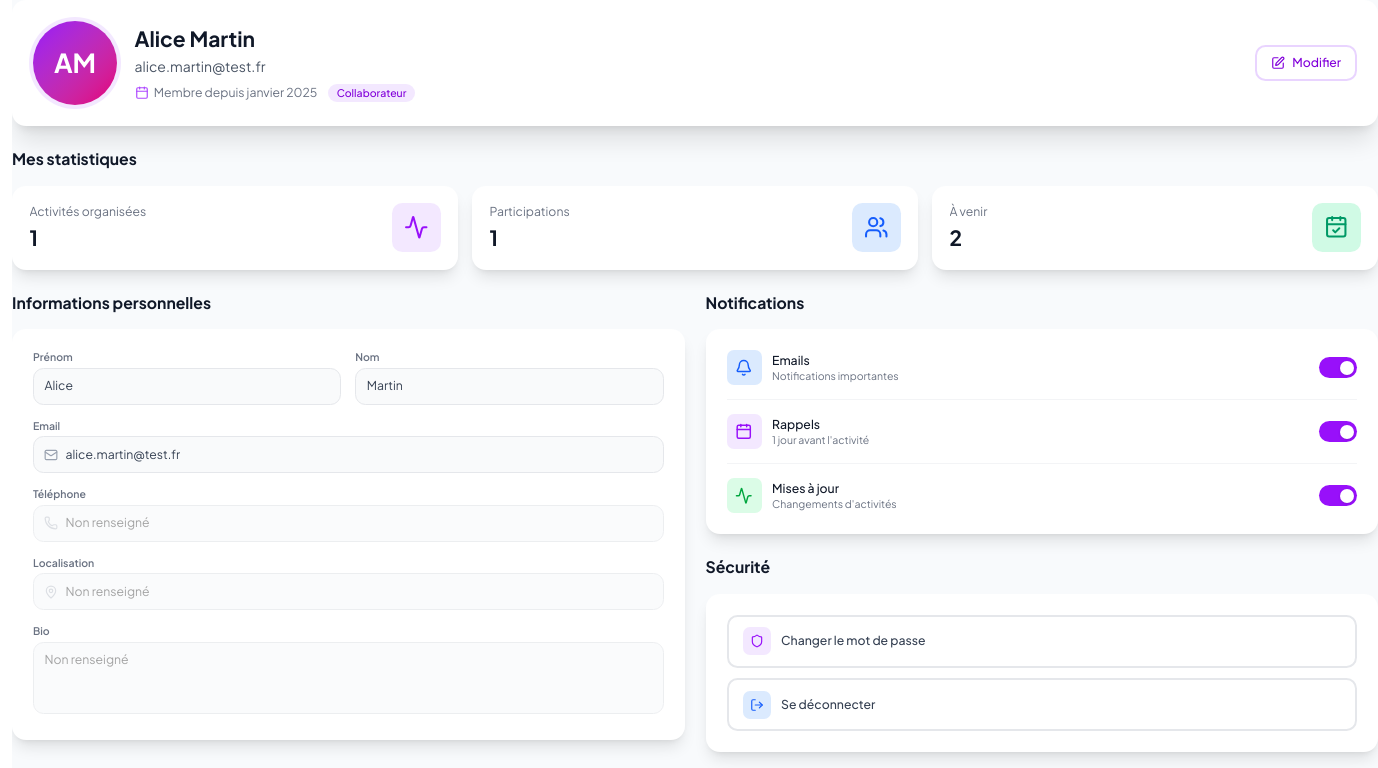
Test: ProfilePage › quitte le mode édition au clic sur Annuler
Expected: the heading "Alice Martin" is shown, [134,24,255,52]
Click the button "Modifier".
click(1306, 63)  # box [1255,45,1357,81]
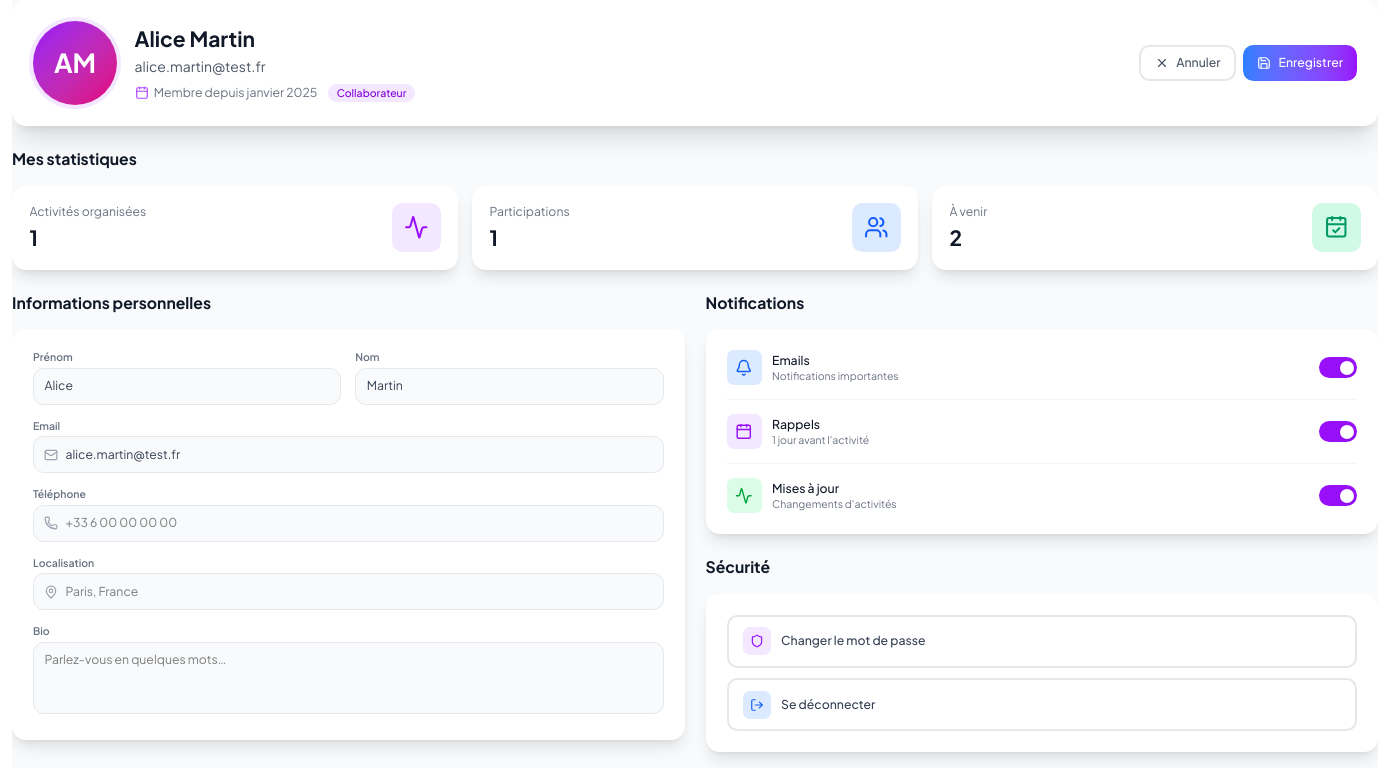
Click the button "Annuler".
click(1188, 63)  # box [1139,45,1236,81]
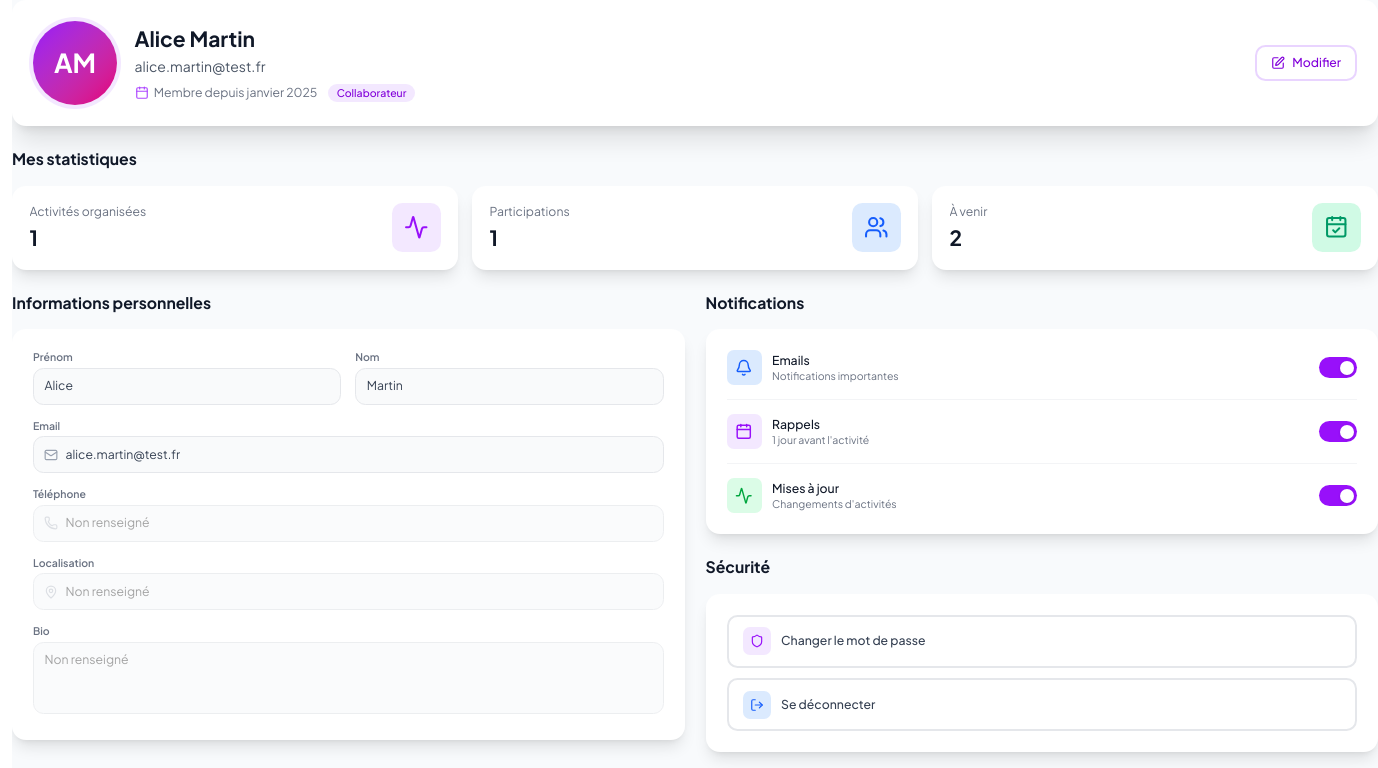
Now the button "Modifier" is shown, box [1255,45,1357,81]
